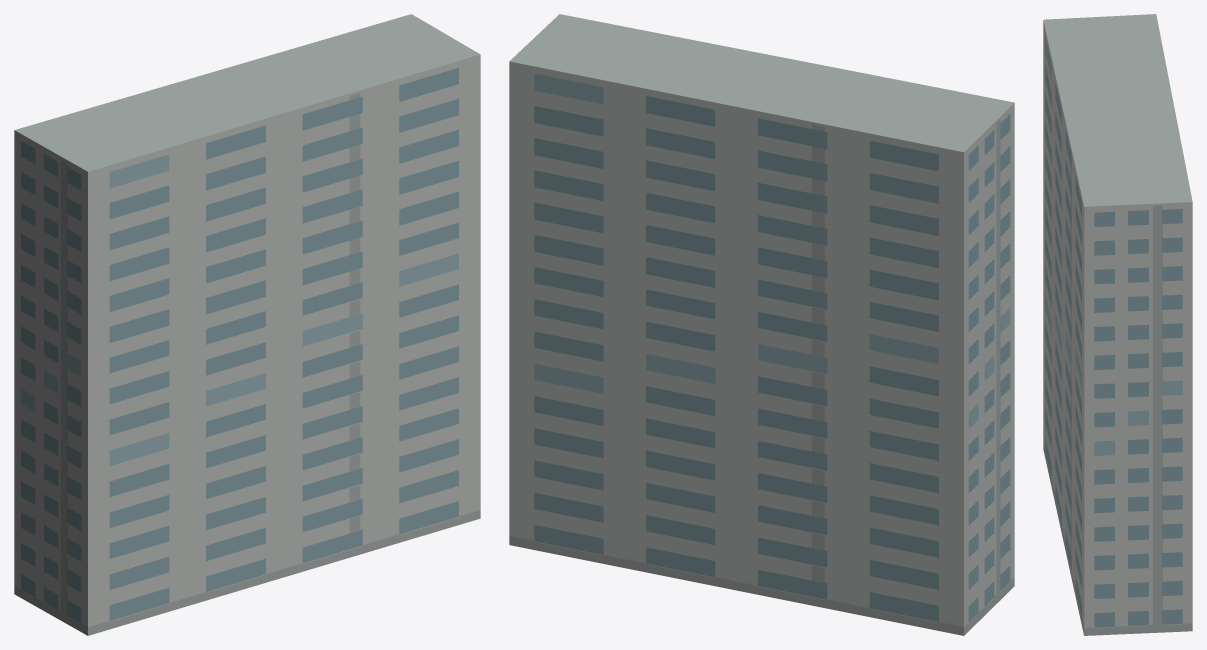
File: residential-21d923bd-7acc-4ea5-a012-319f876c731e.glb
The picture shows the model from 3 angles, left to right: view 1: azimuth 30°, elevation 25°; view 2: azimuth 150°, elevation 25°; view 3: azimuth 270°, elevation 25°; orthographic projection. The views are drawn at different scales.
Visible parts, largest first — view 1: residential-21d923bd-7acc-4ea5-a012-319f876c731e.tmp; view 2: residential-21d923bd-7acc-4ea5-a012-319f876c731e.tmp; view 3: residential-21d923bd-7acc-4ea5-a012-319f876c731e.tmp.
Boxes of the visible parts, bbox=[...] form: residential-21d923bd-7acc-4ea5-a012-319f876c731e.tmp: bbox=[14, 14, 480, 635]; residential-21d923bd-7acc-4ea5-a012-319f876c731e.tmp: bbox=[509, 14, 1014, 635]; residential-21d923bd-7acc-4ea5-a012-319f876c731e.tmp: bbox=[1043, 14, 1192, 635].
Bounding box in the file's own units: 44.08 × 45.75 × 14.45.
